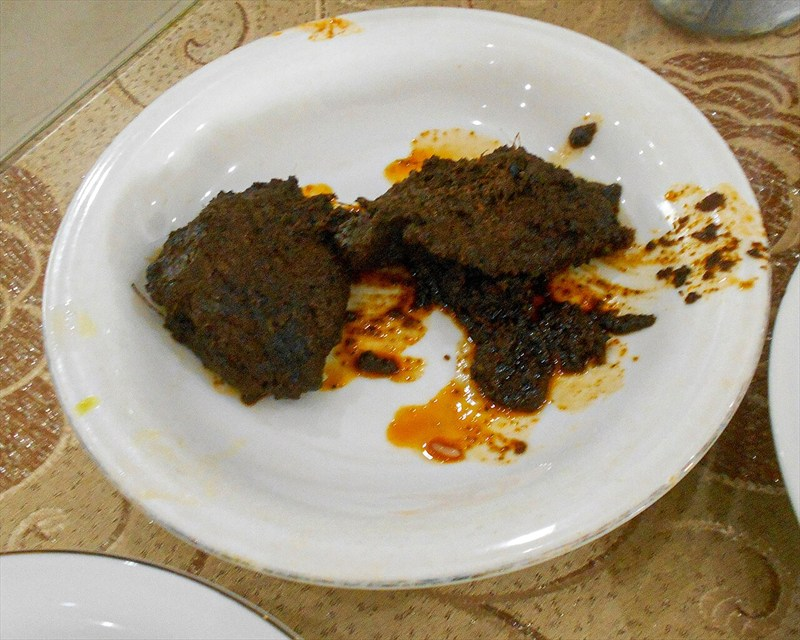Rendang: (172, 127, 783, 476)
